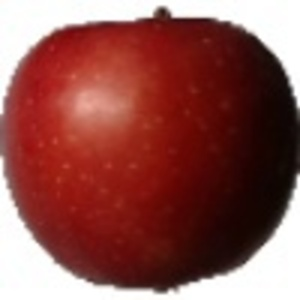maçã braeburn: (1, 11, 300, 295)
